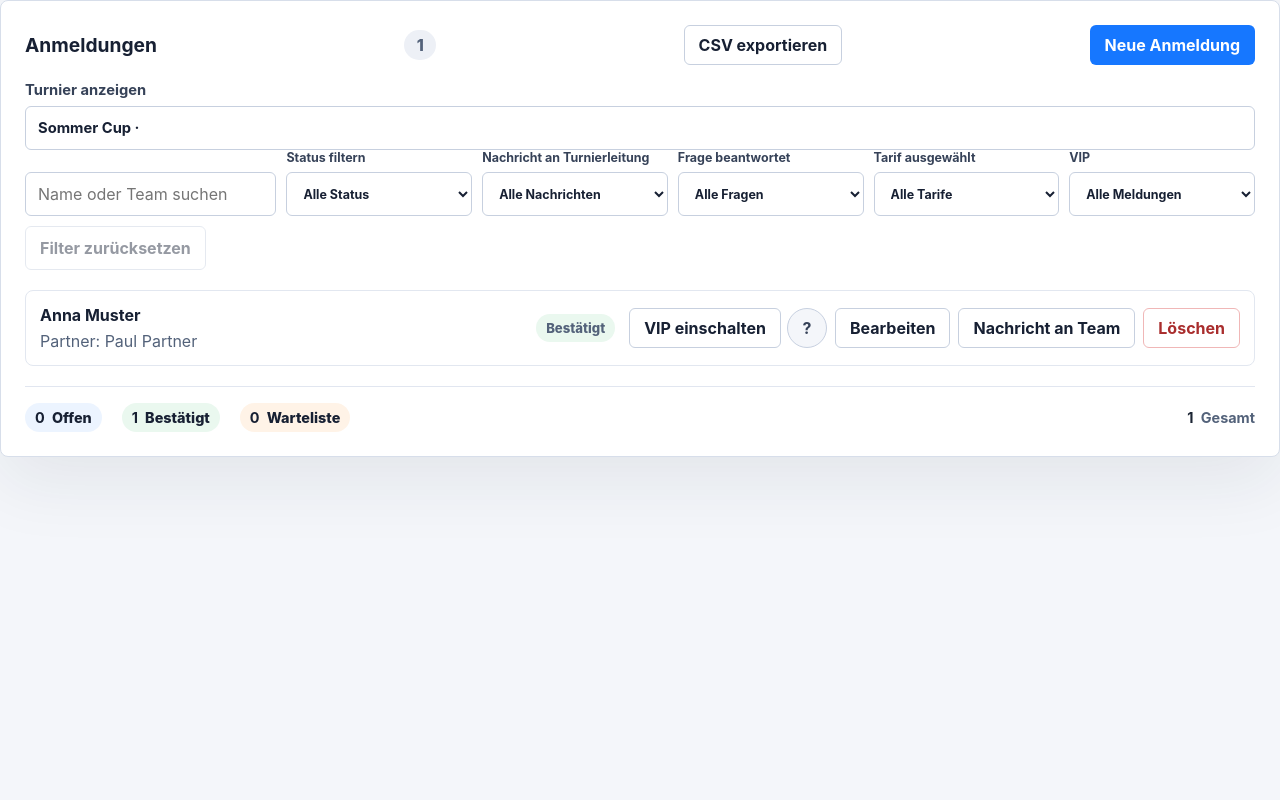
Test: Anmeldungsverwaltung: Nachricht an Team › öffnet pro Anmeldung einen Nachrichtendialog mit Empfängern und Richtext-Editor
The image size is (1280, 800).
What coordinates should you click on to do the following:
click the button "Nachricht an Team"
I would click on:
 (1047, 328)
Its box is [958, 308, 1135, 348].
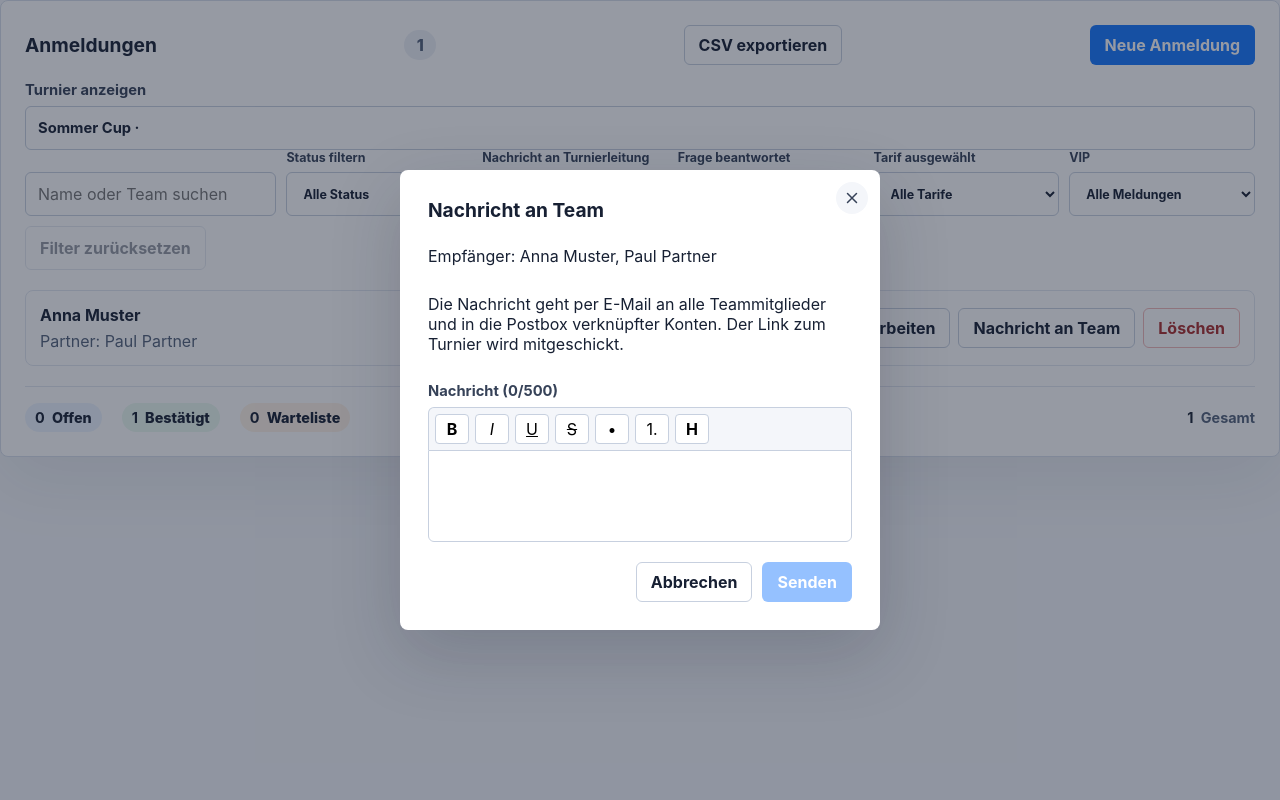
Result: the heading "Nachricht an Team" is shown at [428, 198, 604, 222]
Result: the text "Anna Muster, Paul Partner" is shown at [520, 246, 717, 266]
Result: the text "Der Link zum Turnier wird mitgeschickt" is shown at [428, 294, 826, 354]
